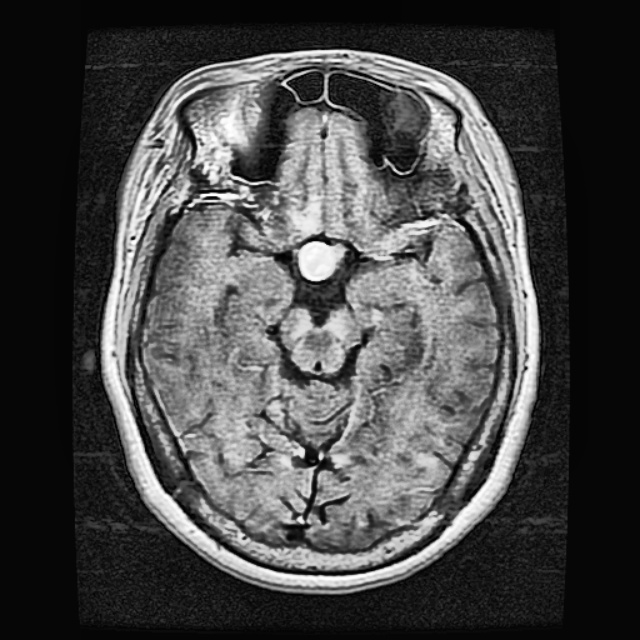Pituitary: (297, 237, 339, 282)
